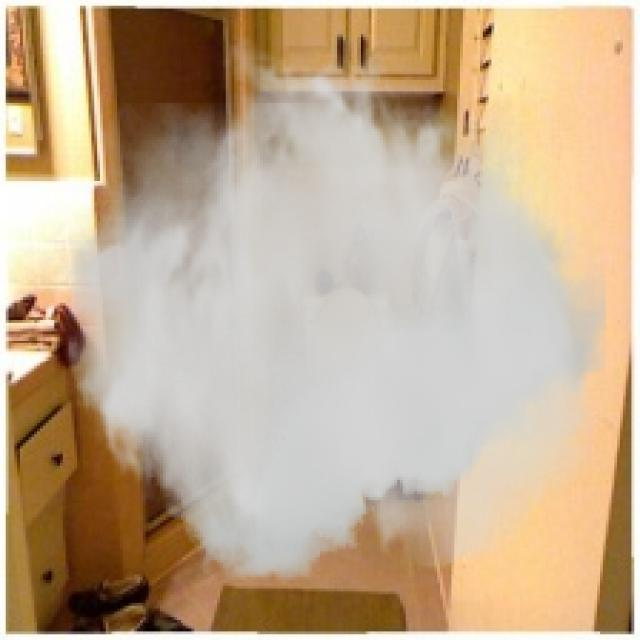Smoke: (60, 34, 606, 580)
